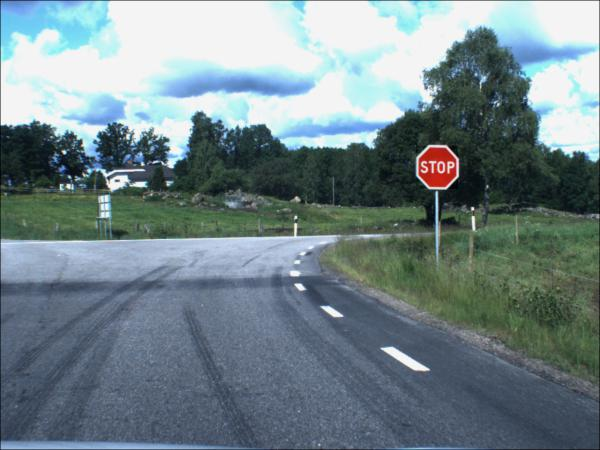STOP: (417, 147, 460, 191)
